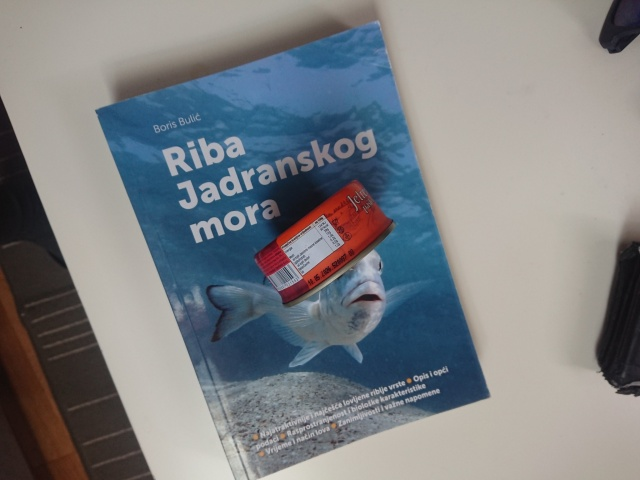Gavrilovic Pork Liver Pate 100g: (250, 175, 398, 310)
